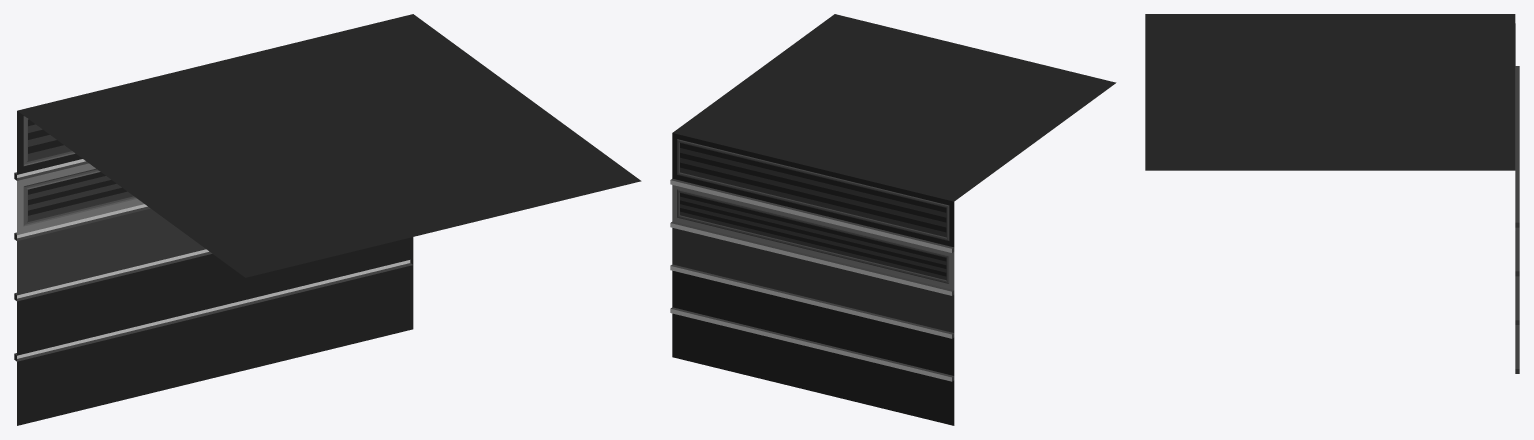
File: MallSide2.fbx
3 renders of one model, left to right at view 1: azimuth 30°, elevation 25°; view 2: azimuth 150°, elevation 25°; view 3: azimuth 270°, elevation 25°, orthographic. The views are drawn at different scales.
Parts seen in each view (by area): view 1: MallCorner1; view 2: MallCorner1; view 3: MallCorner1.
Boxes of the visible parts, <box> form: MallCorner1: <box>14,14,641,425</box>; MallCorner1: <box>670,14,1116,425</box>; MallCorner1: <box>1145,14,1519,373</box>.
Size of the model in its own units: 200 by 152 by 203.
